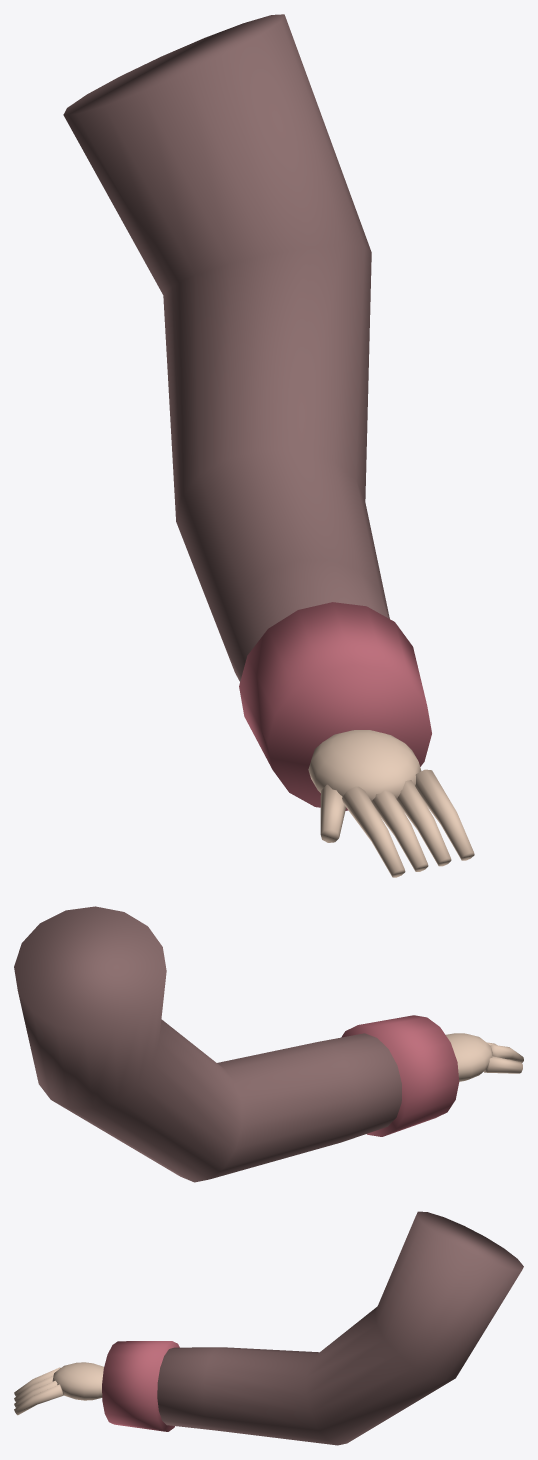
Rendered from opp_arm_r.glb.
3 views of the same model, one above another, from view 1: azimuth 30°, elevation 25°; view 2: azimuth 150°, elevation 25°; view 3: azimuth 270°, elevation 25° (orthographic). The views are drawn at different scales.
Parts seen in each view (by area): view 1: ArmSleeve, ArmCuff, ArmHandPalm, ArmHandFinger_0, ArmHandFinger_3, ArmHandFinger_2, ArmHandFinger_1, ArmHandThumb; view 2: ArmSleeve, ArmCuff, ArmHandPalm, ArmHandThumb, ArmHandFinger_0; view 3: ArmSleeve, ArmCuff, ArmHandPalm, ArmHandFinger_3.
Boxes of the visible parts, x1,y1,x2,y2 form: ArmSleeve: [63, 14, 389, 681]; ArmCuff: [239, 602, 431, 810]; ArmHandPalm: [308, 730, 421, 801]; ArmHandFinger_0: [342, 786, 405, 877]; ArmHandFinger_3: [415, 769, 474, 860]; ArmHandFinger_2: [397, 780, 451, 866]; ArmHandFinger_1: [371, 790, 428, 871]; ArmHandThumb: [320, 784, 346, 842]; ArmSleeve: [14, 906, 401, 1182]; ArmCuff: [341, 1015, 459, 1136]; ArmHandPalm: [446, 1033, 492, 1081]; ArmHandThumb: [483, 1056, 522, 1073]; ArmHandFinger_0: [490, 1045, 523, 1062]; ArmSleeve: [157, 1211, 523, 1445]; ArmCuff: [102, 1341, 179, 1431]; ArmHandPalm: [52, 1362, 103, 1400]; ArmHandFinger_3: [14, 1384, 64, 1415].
Bounding box in the file's own units: 0.2449 × 0.2907 × 0.536.
